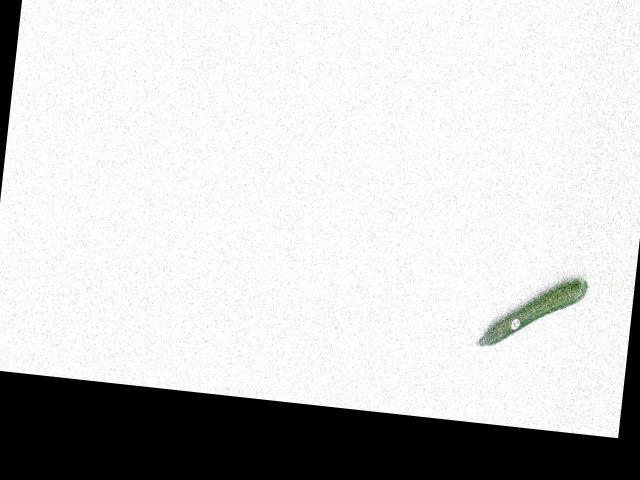cucumber: (475, 268, 587, 357)
